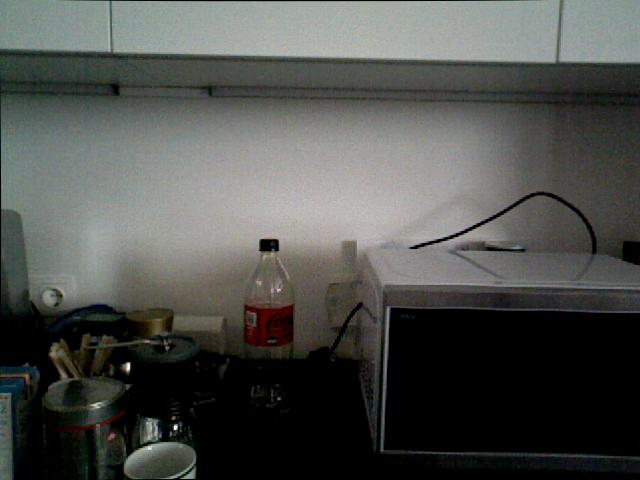bench: (242, 237, 295, 361)
handbag: (121, 438, 197, 480)
knife: (363, 246, 639, 471)
